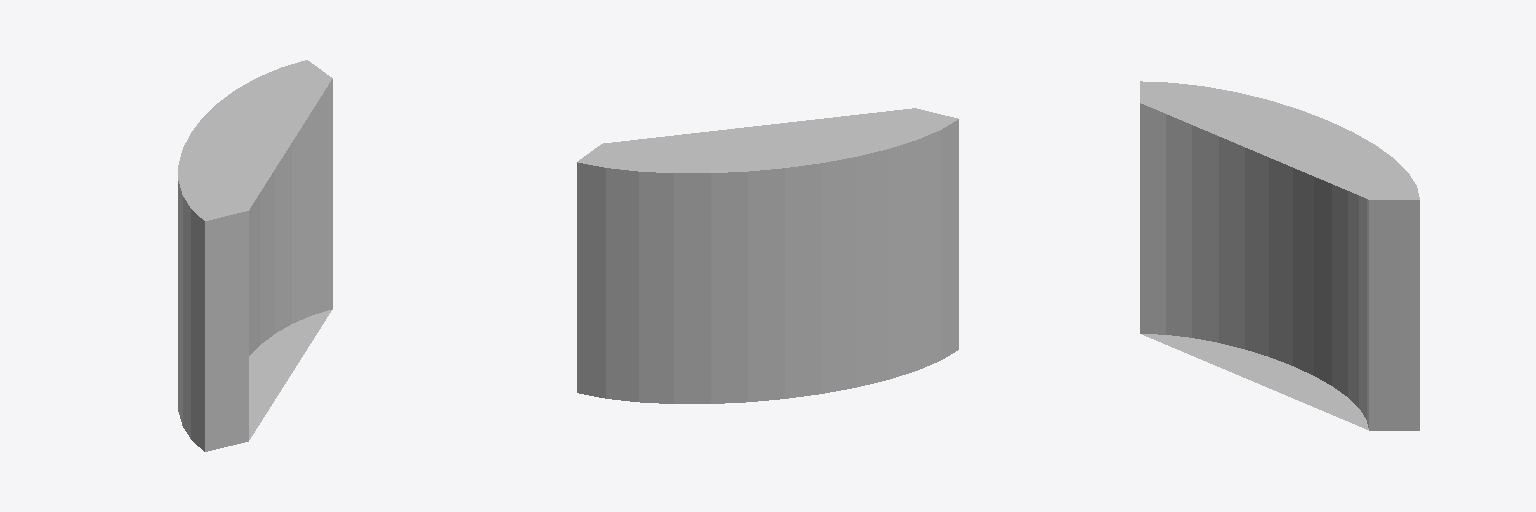
Rendered from WallCurve.obj.
The picture shows the model from 3 angles: view 1: azimuth 30°, elevation 25°; view 2: azimuth 150°, elevation 25°; view 3: azimuth 270°, elevation 25°; orthographic projection.
Visible parts, largest first — view 1: BezierCurve; view 2: BezierCurve; view 3: BezierCurve.
Part boxes in pixels (x1,y1,x2,y2): BezierCurve: (178, 60, 332, 451); BezierCurve: (577, 108, 958, 403); BezierCurve: (1140, 81, 1419, 430).
Size of the model in its own units: 1.1 by 1 by 1.1.